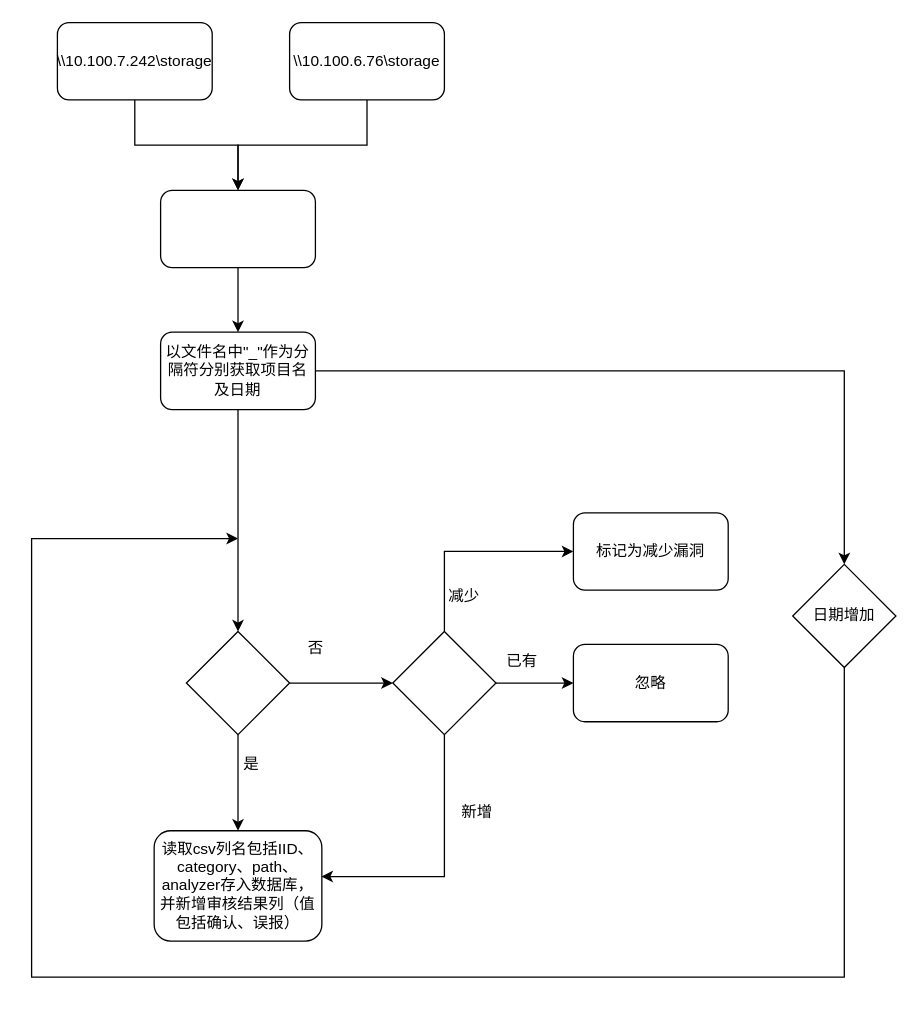
This 918x1010 diagram has some shape labels left out. The shapes that lost their labels are listed below. From the top down, each one's box as (x1, y1, x2, y2) in pixels, then its label:
(159, 189, 315, 268): 每日晚10点 获取csv文件
(185, 630, 290, 735): 新项目
(392, 630, 496, 735): 与历史IID 比较
